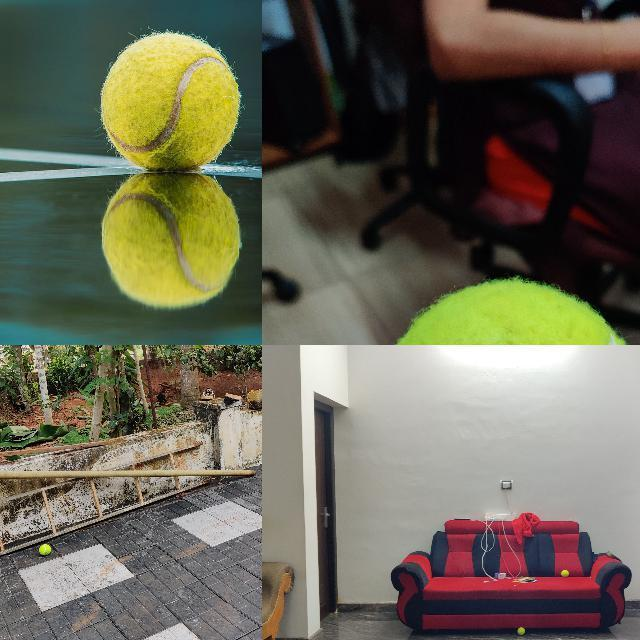tennis-ball: (100, 32, 241, 170), (379, 281, 639, 344), (39, 544, 51, 555), (517, 627, 525, 635), (561, 570, 569, 577)
